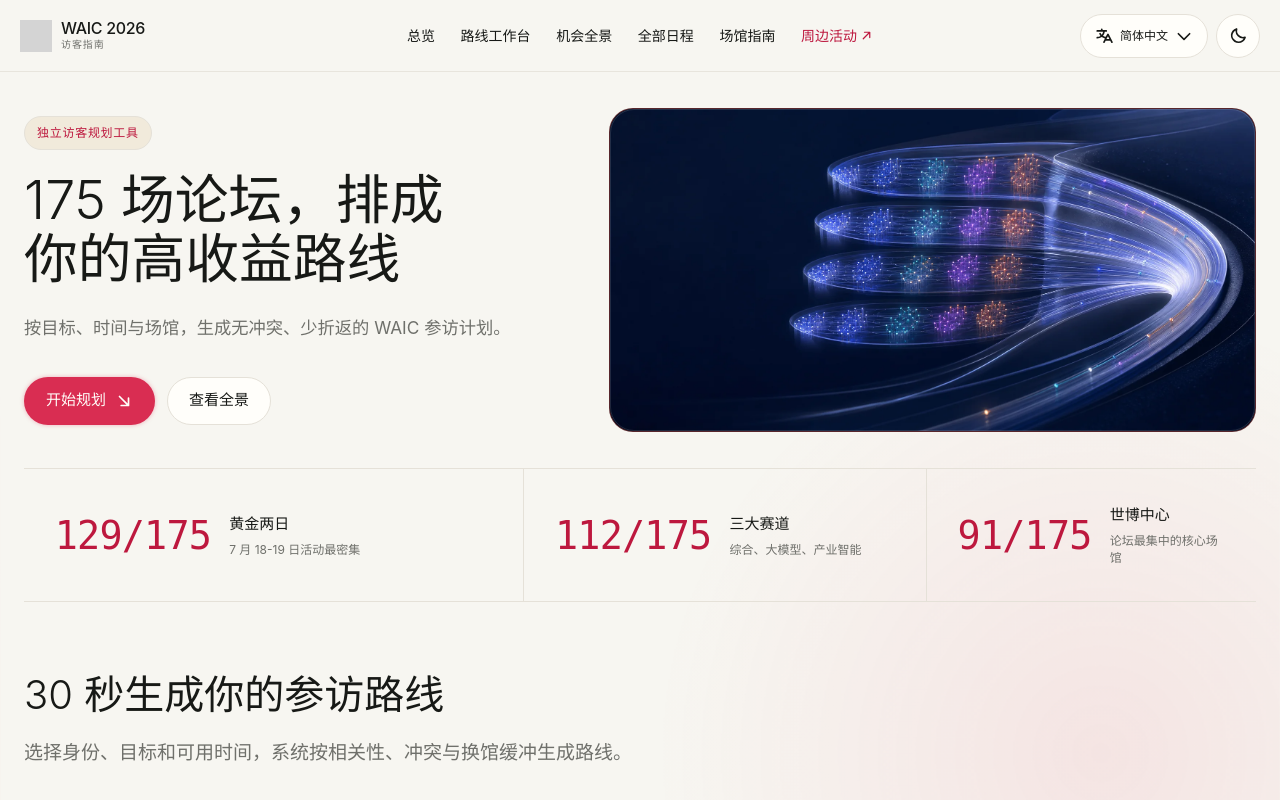
Test: application shell › offers eight languages, persists the choice, and applies Arabic RTL
Click the button with aria-label "选择语言": x=1144, y=36 x1=1080 y1=14 x2=1208 y2=58
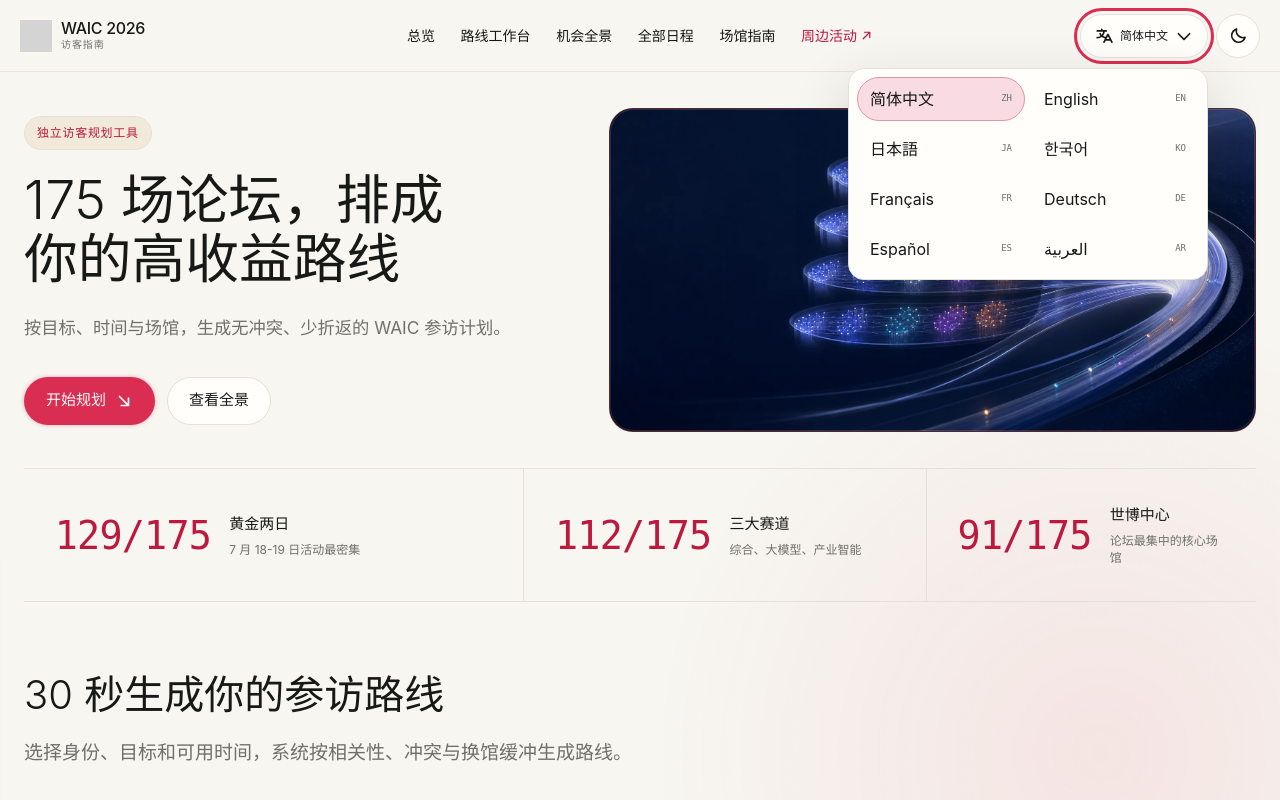
Check: the menu named "语言" is shown, box x1=848 y1=68 x2=1208 y2=280
Check: the number of menu items is 8
Click the menu item "日本語 JA": x=941, y=148 x1=857 y1=126 x2=1025 y2=170
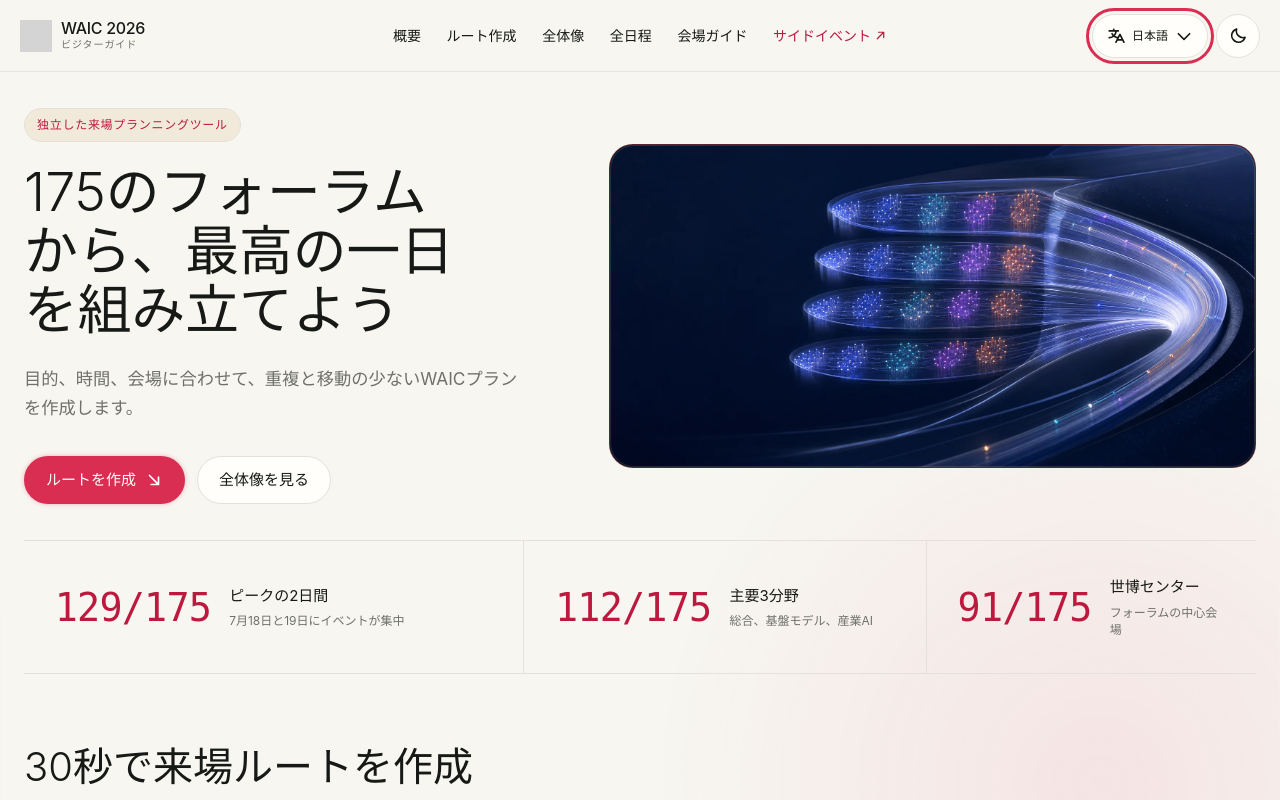
Check: the heading "175のフォーラムから、最高の一日を組み立てよう" is shown, box x1=24 y1=159 x2=454 y2=342
Check: the link "ルートを作成" is shown, box x1=24 y1=456 x2=185 y2=504
Click the button with aria-label "言語を選択": x=1150, y=36 x1=1092 y1=14 x2=1208 y2=58
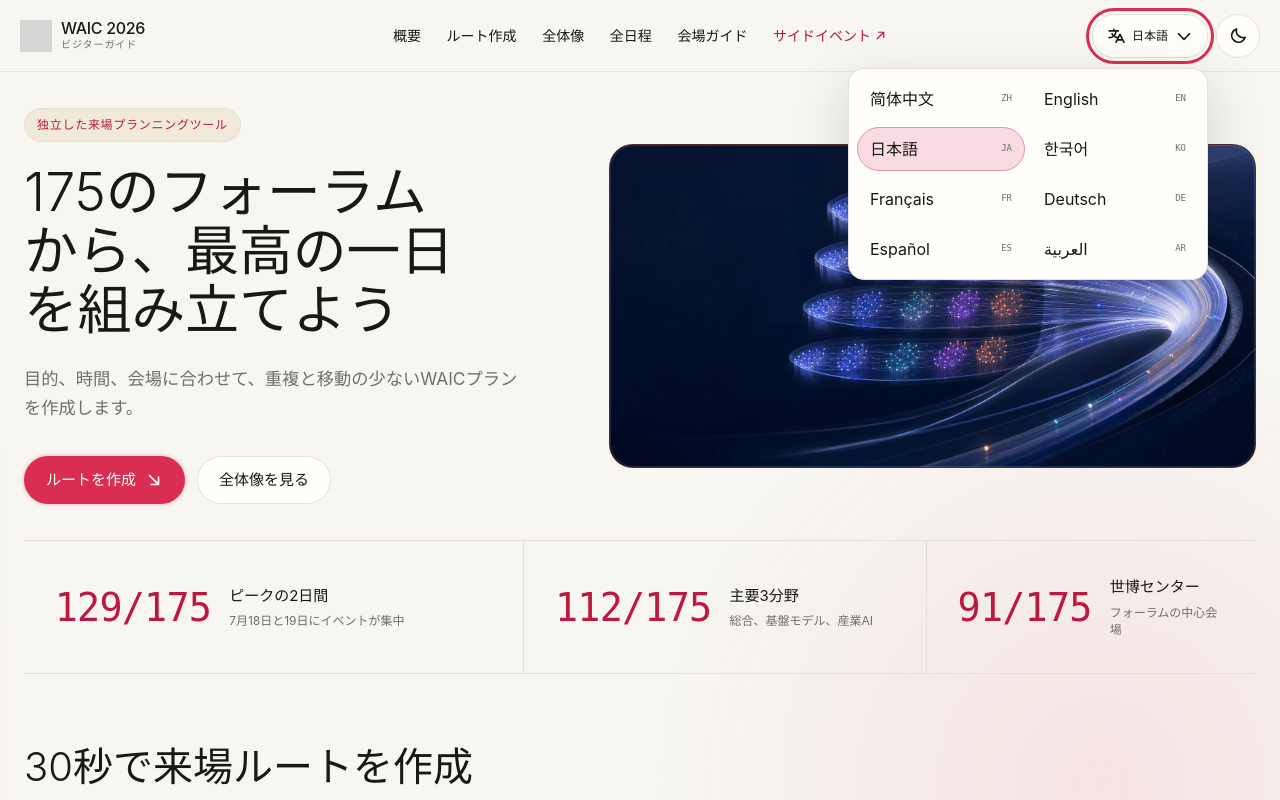
Click the menu item "العربية AR": x=1115, y=248 x1=1031 y1=226 x2=1199 y2=270
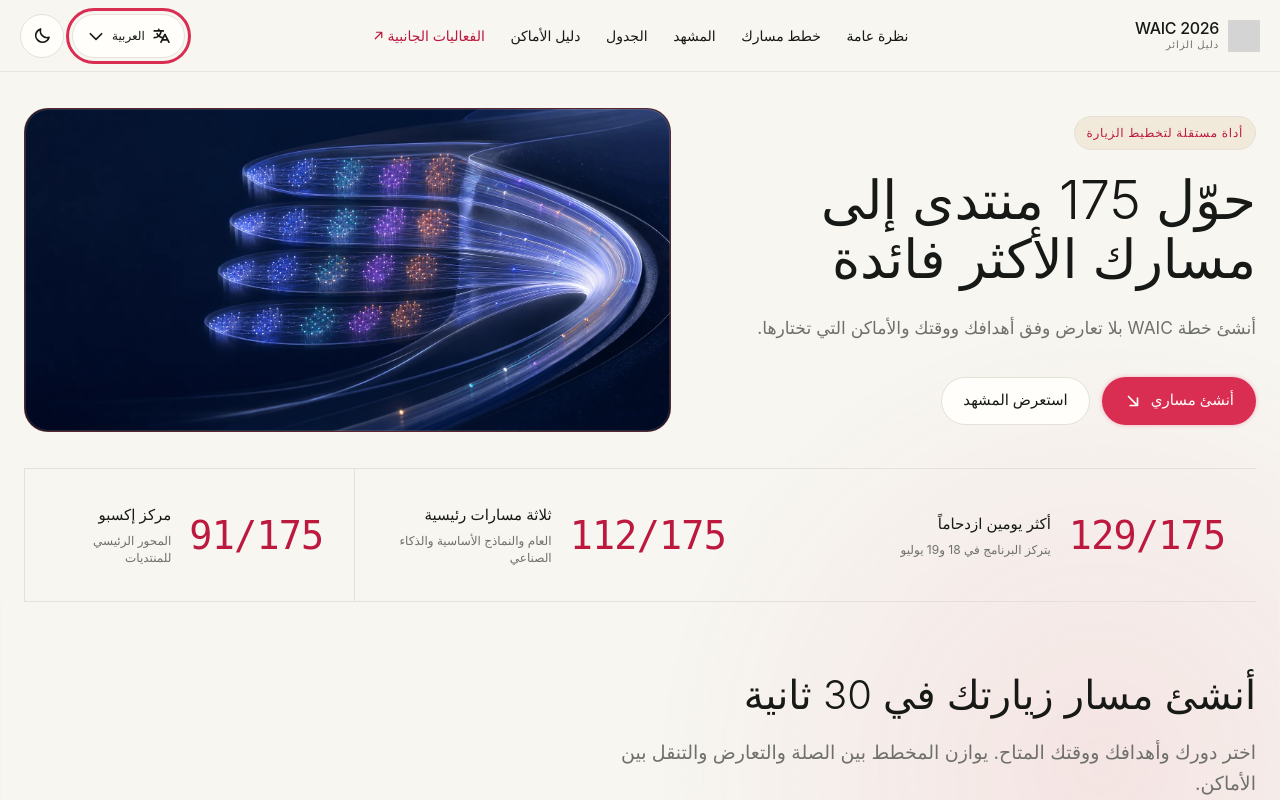
Check: the heading "حوّل 175 منتدى إلى مسارك الأكثر فائدة" is shown, box x1=748 y1=170 x2=1256 y2=288
